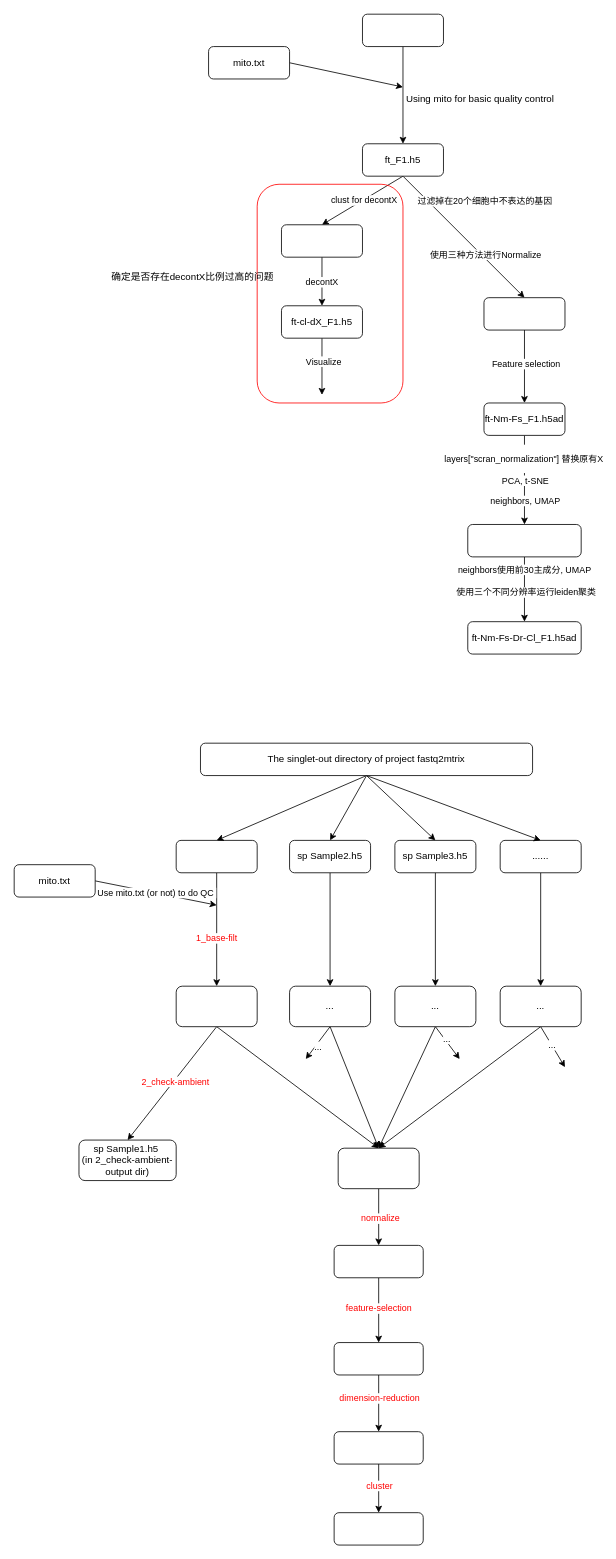
This 616x1559 diagram has some shape labels left out. The centre of each missing label's shape, as x and y in pixels:
F1.h5: point (402, 30)
ft-cl_F1.h5: point (321, 240)
ft-Nm-Fs-Dr_F1.h5ad: point (524, 540)
ft-Nm_F1.h5ad: point (524, 313)
sp concat: point (378, 1168)
sp Sample1.h5: point (216, 856)
sp Sample1.h5 (in 1_base-filt-output dir): point (216, 1006)
